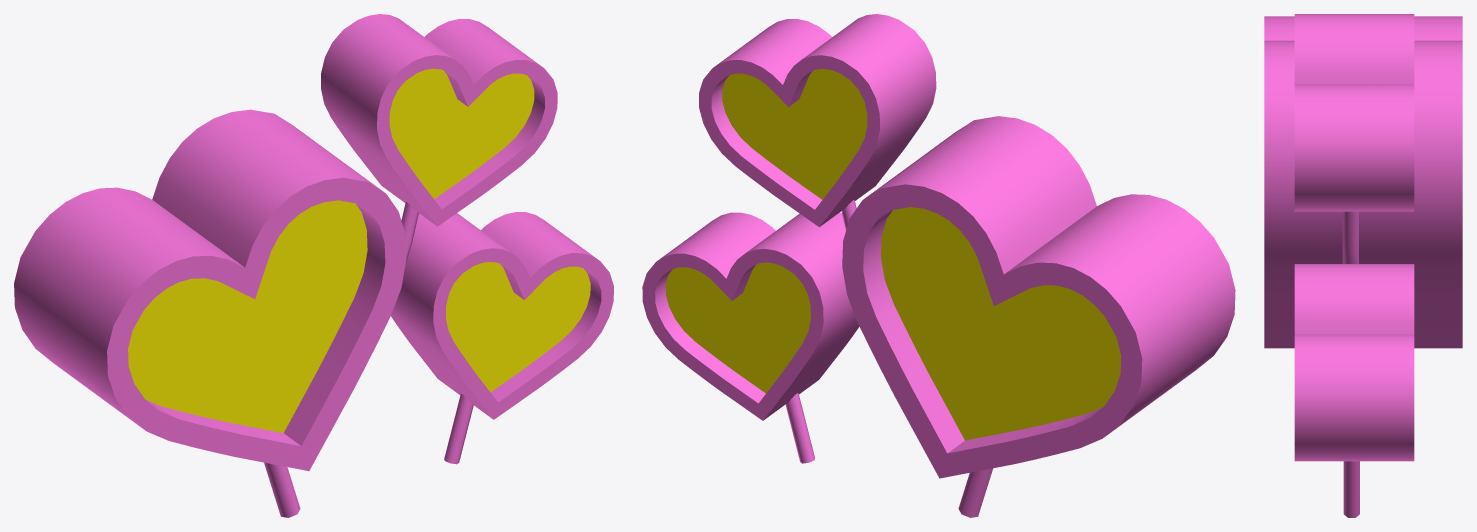
The model's file is Cake_ThemeValentine_B.FBX.
The picture shows the model from 3 angles, left to right: view 1: azimuth 30°, elevation 25°; view 2: azimuth 150°, elevation 25°; view 3: azimuth 270°, elevation 25°; orthographic projection. The views are drawn at different scales.
Visible parts, largest first — view 1: Cake_ThemeValentine_B; view 2: Cake_ThemeValentine_B; view 3: Cake_ThemeValentine_B.
Boxes of the visible parts, x1=… form: Cake_ThemeValentine_B: x1=14, y1=14, x2=613, y2=517; Cake_ThemeValentine_B: x1=642, y1=14, x2=1235, y2=517; Cake_ThemeValentine_B: x1=1264, y1=14, x2=1462, y2=517.
Bounding box in the file's own units: 113988 × 94338 × 35240.
